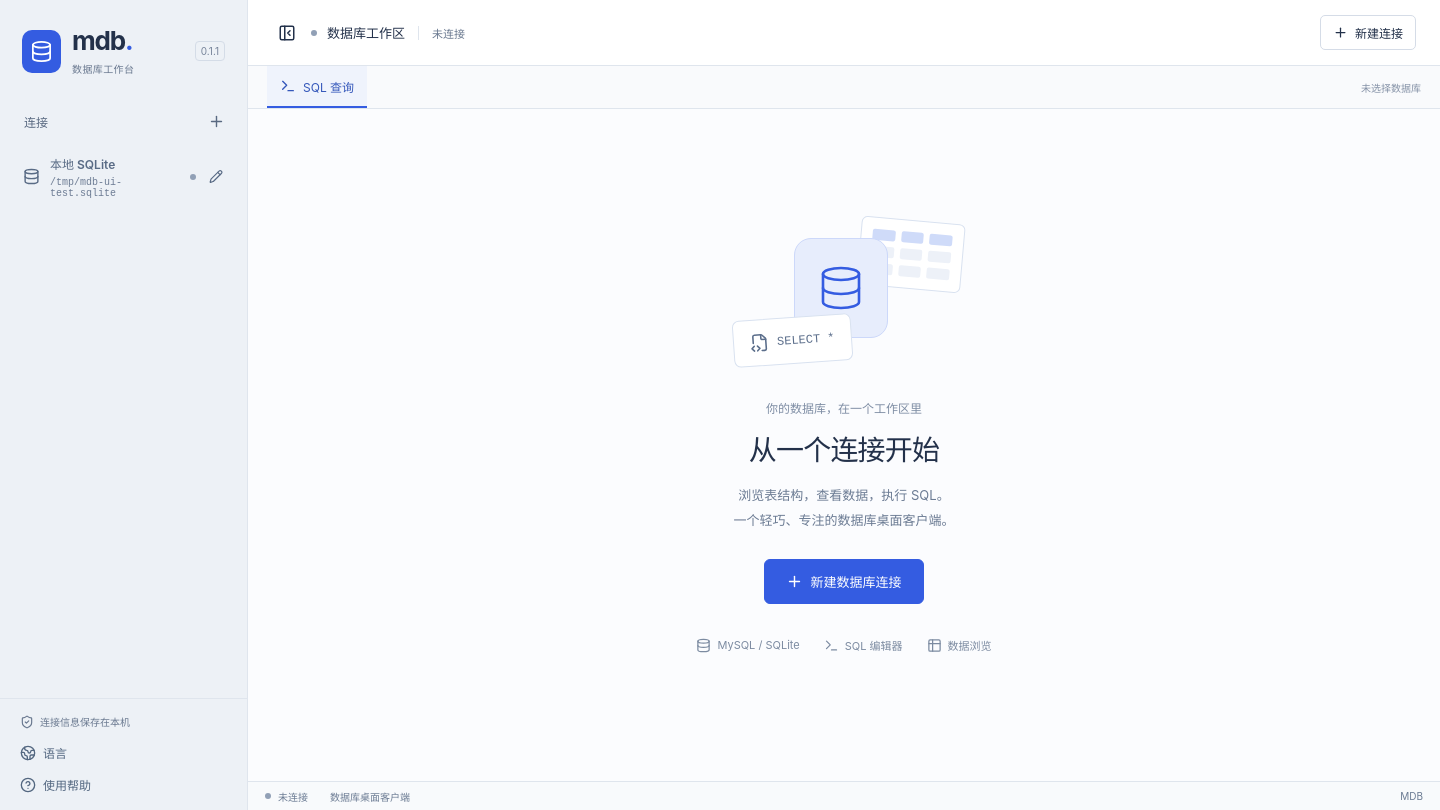
Test: double-clicks, edits and deletes a saved SQLite profile without a credential store
The width and height of the screenshot is (1440, 810).
Double-click the button "本地 SQLite /tmp/mdb-ui-test.sqlite": (124,177) [12, 144, 235, 210]
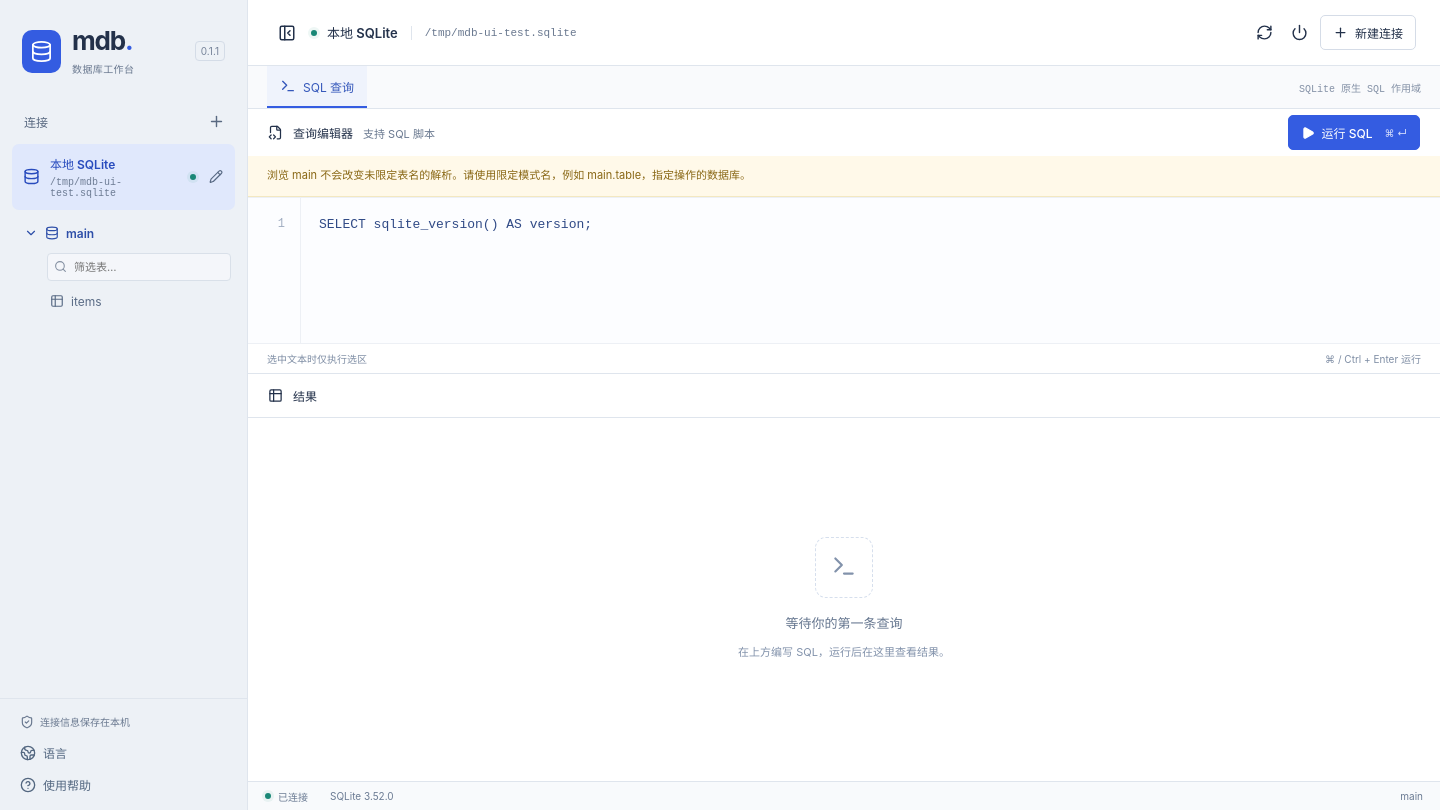
Check: the button "items" is shown, box [17, 286, 235, 317]
Click the button named "断开连接": (1300,32) [1285, 18, 1314, 47]
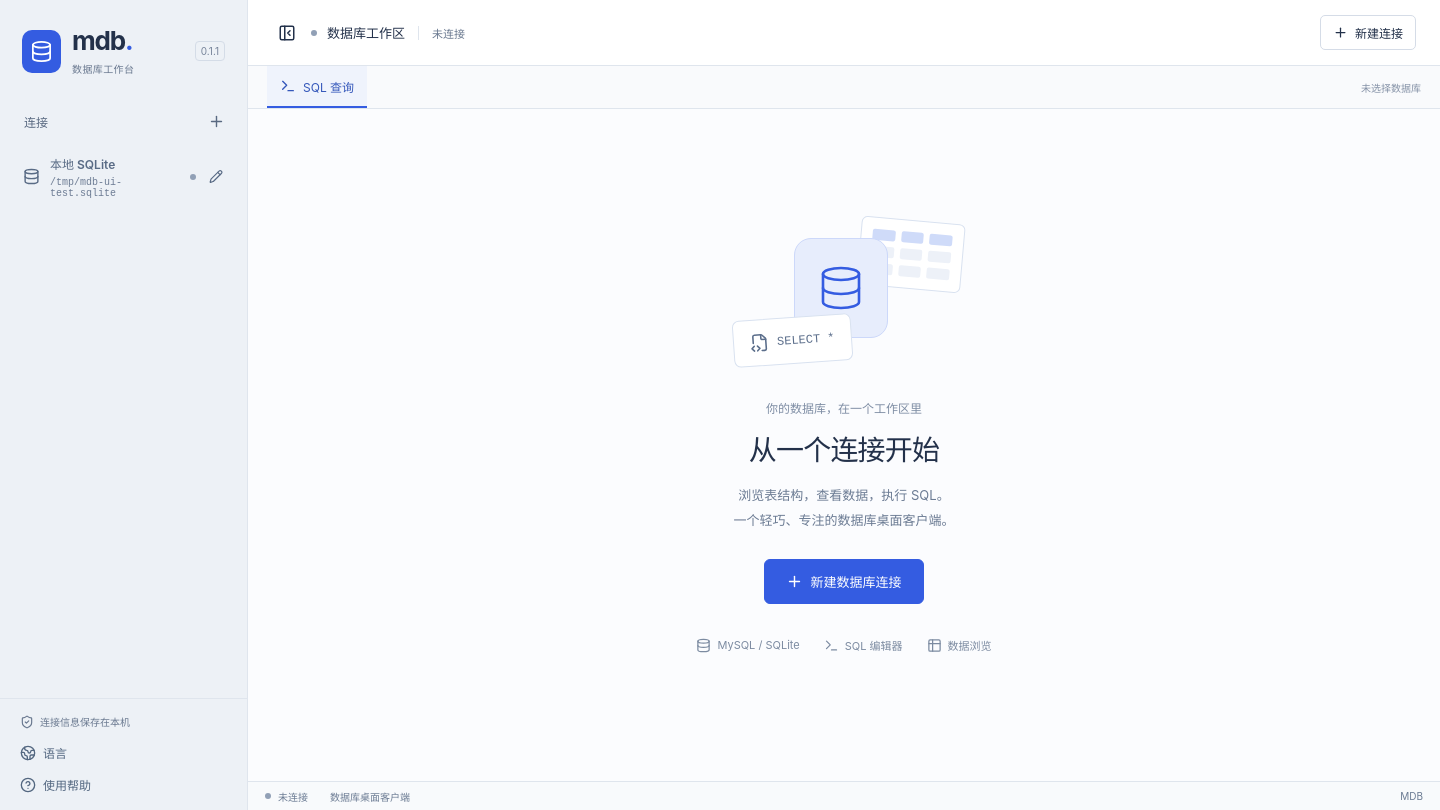
Click the button named "编辑连接 本地 SQLite": (216,177) [201, 162, 230, 191]
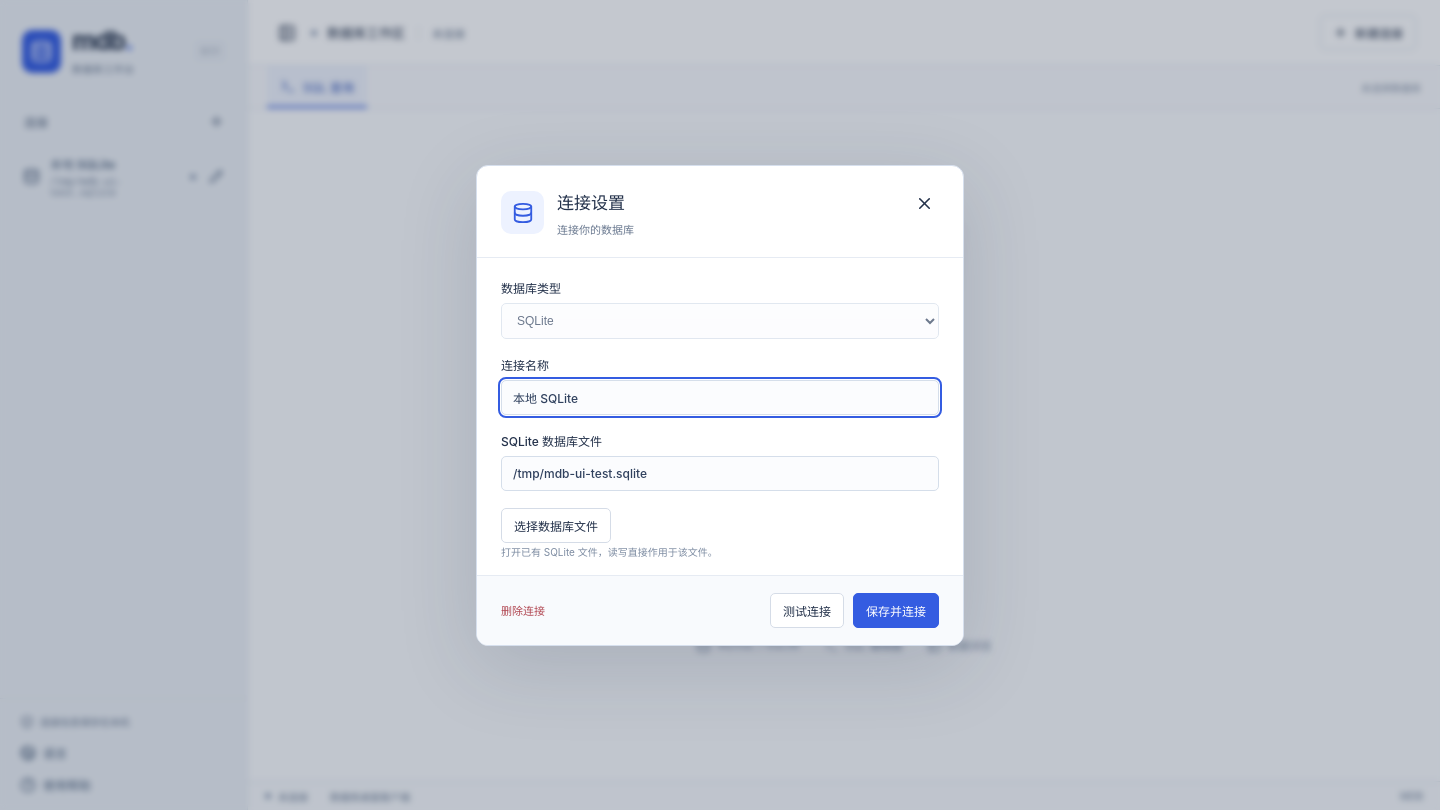
Check: the field labelled "SQLite 数据库文件" holds "/tmp/mdb-ui-test.sqlite", box [501, 456, 939, 490]
Check: the dropdown labelled "数据库类型" is disabled, box [501, 302, 939, 338]
Click the button "删除连接": (523,610) [501, 596, 545, 624]
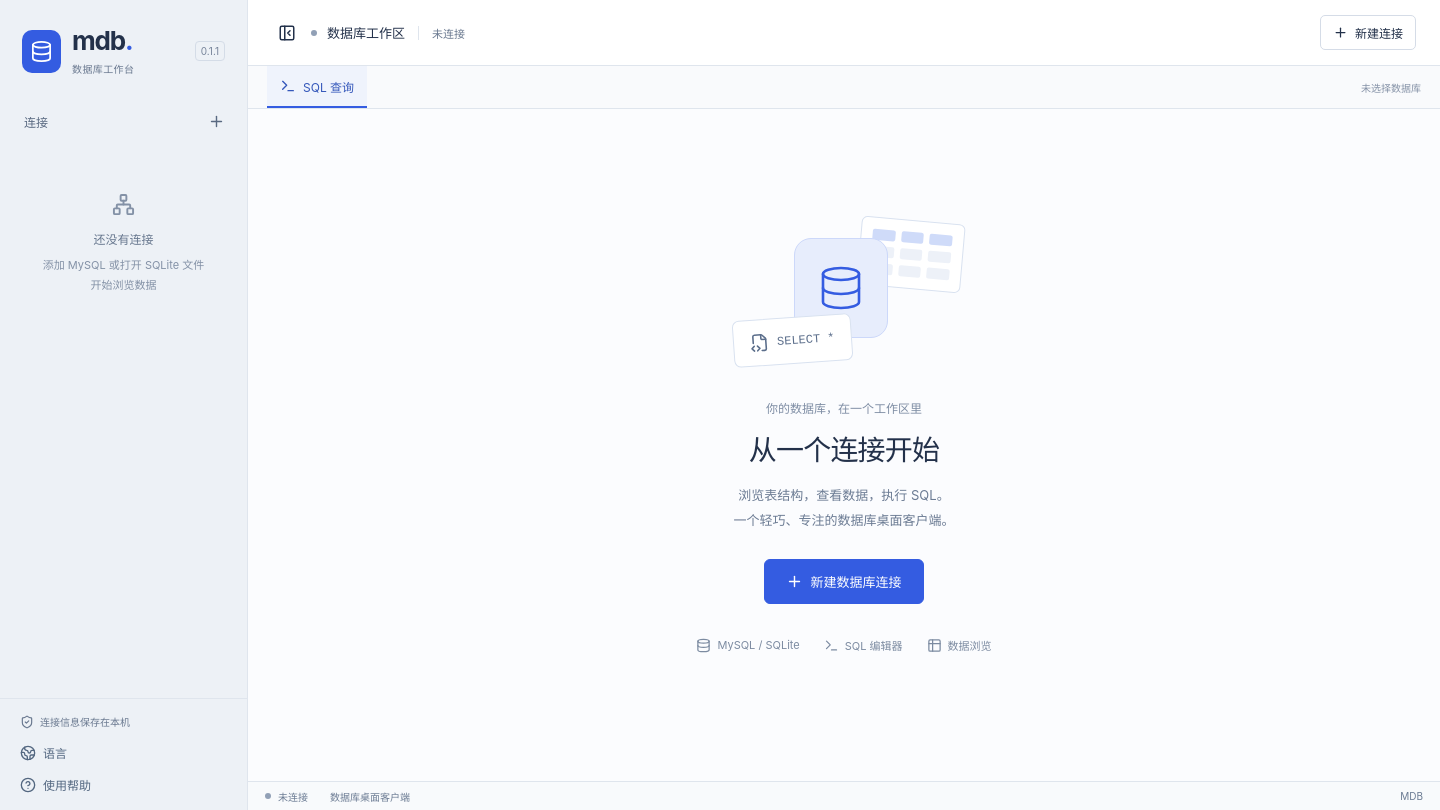
Check: the dialog is gone
